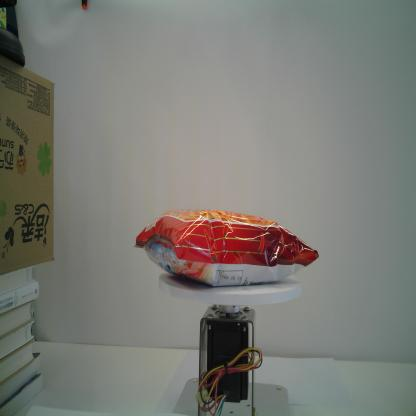Puffed Food: (134, 208, 320, 286)
